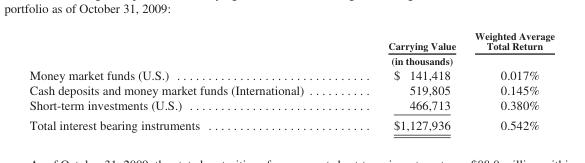table: (28, 29, 553, 132)
table column: (28, 29, 345, 132), (345, 29, 464, 132), (464, 29, 553, 132)
table column header: (28, 29, 553, 66)
table row: (28, 29, 553, 66), (28, 97, 553, 115), (28, 115, 553, 132), (28, 66, 553, 82), (28, 82, 553, 97)
